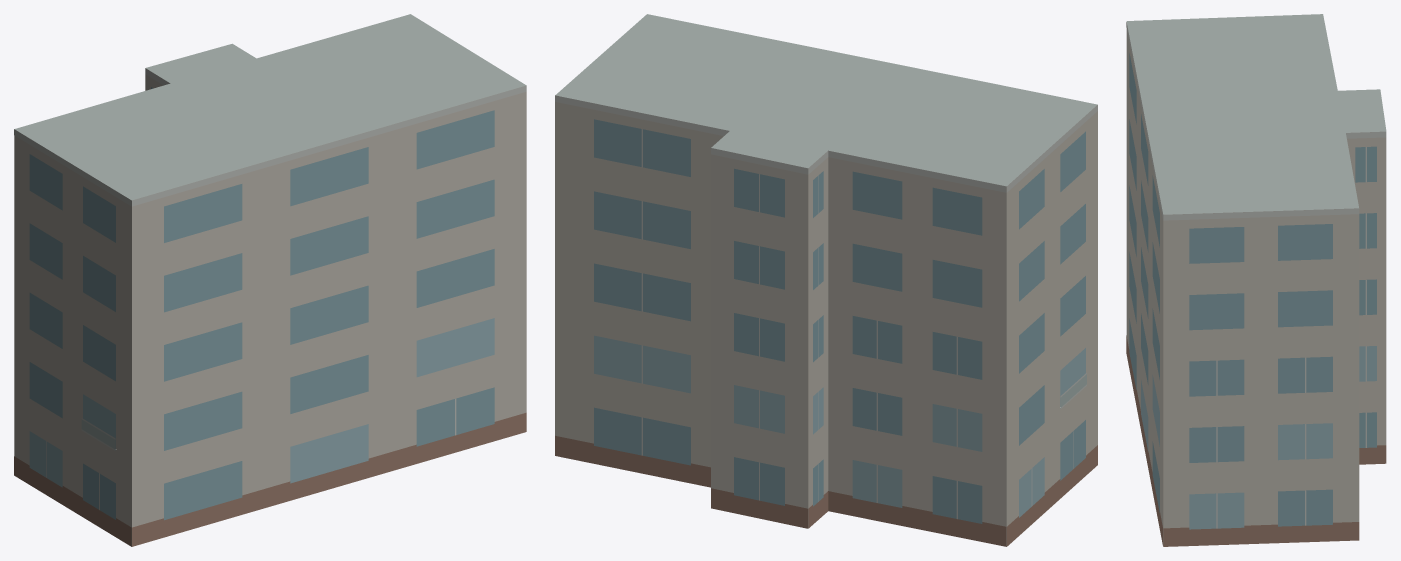
Rendered from survey-upis-32994830.glb.
3 renders of one model, left to right at view 1: azimuth 30°, elevation 25°; view 2: azimuth 150°, elevation 25°; view 3: azimuth 270°, elevation 25°, orthographic. The views are drawn at different scales.
Visible parts, largest first — view 1: survey-upis-32994830.tmp; view 2: survey-upis-32994830.tmp; view 3: survey-upis-32994830.tmp.
Part boxes in pixels (left/top/right/bottom): survey-upis-32994830.tmp: left=14, top=14, right=526, bottom=546; survey-upis-32994830.tmp: left=555, top=14, right=1097, bottom=546; survey-upis-32994830.tmp: left=1126, top=14, right=1386, bottom=546.
Size of the model in its own units: 17.77 by 13.7 by 9.73.
